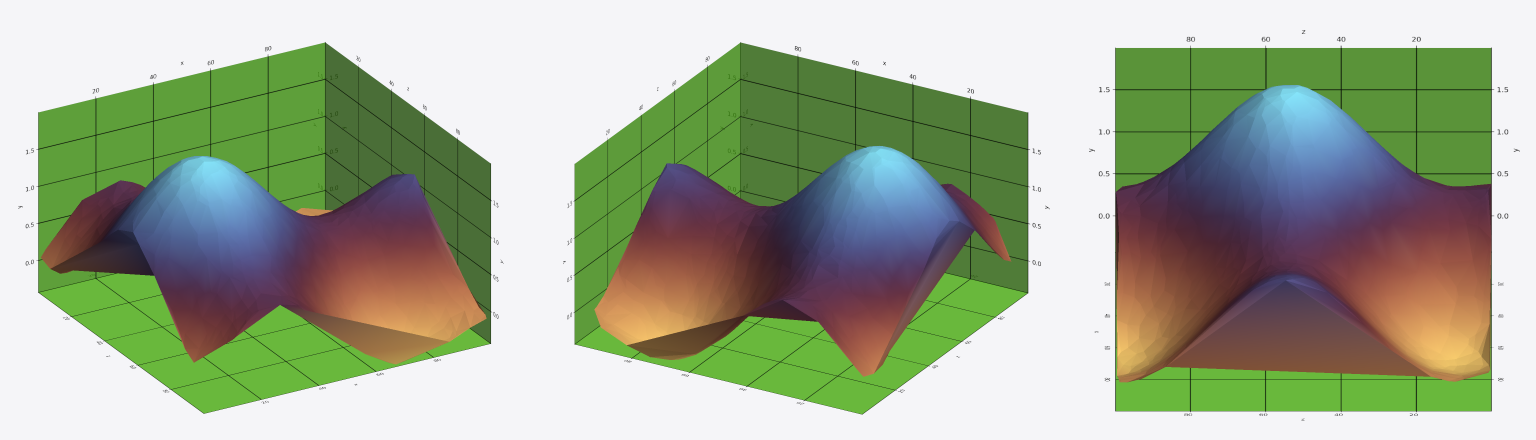
The picture shows the model from 3 angles, left to right: view 1: azimuth 30°, elevation 25°; view 2: azimuth 150°, elevation 25°; view 3: azimuth 270°, elevation 25°; orthographic projection. The views are drawn at different scales.
Parts seen in each view (by area): view 1: surface, xy, xz, zy; view 2: surface, -xy, zy, xz; view 3: surface, -zy, xz.
Part boxes in pixels (x1,y1,x2,y2): surface: [41, 156, 486, 364]; xy: [18, 42, 325, 292]; xz: [38, 273, 490, 413]; zy: [325, 42, 503, 343]; surface: [594, 146, 1011, 376]; -xy: [740, 42, 1049, 292]; zy: [563, 42, 740, 344]; xz: [575, 273, 1027, 414]; surface: [1115, 85, 1491, 382]; -zy: [1089, 30, 1519, 252]; xz: [1094, 252, 1503, 420].
Bounding box in the file's own units: 0.5808 × 0.3338 × 0.5808.
Materials: 6 (5 with a texture image).
